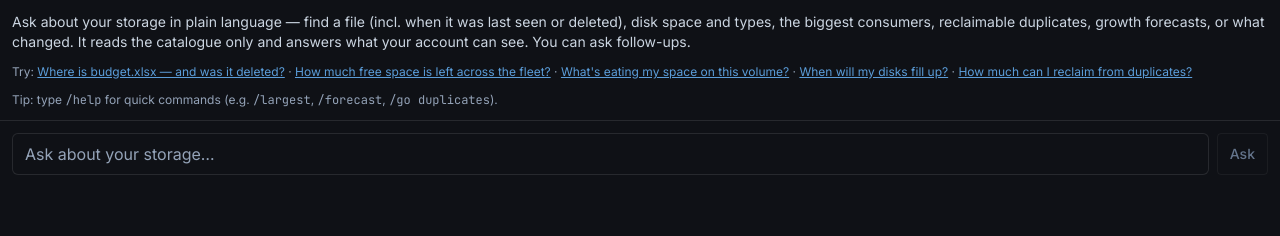
Test: /scope with multiple matches selects the first
This screenshot has width=1280, height=236.
In the field named "your question": x=610, y=154 [12, 133, 1209, 175], type "/scope data"
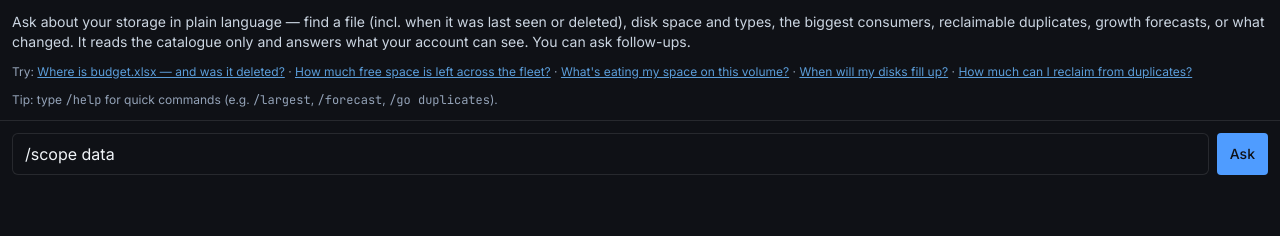
Click the button "Ask": x=1242, y=154 [1217, 133, 1268, 175]
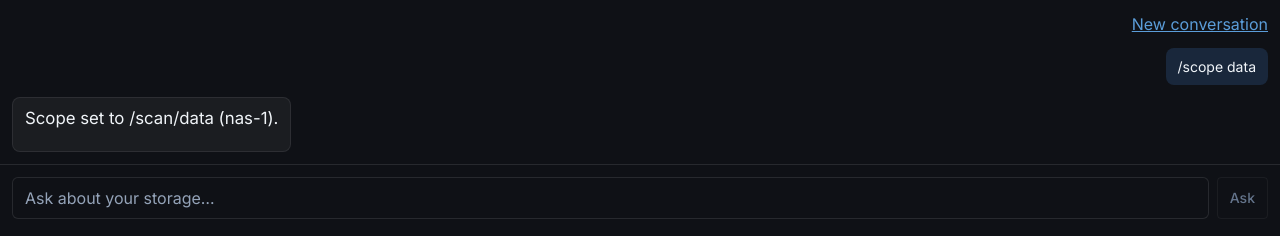
Now the text "Scope set to /scan/data (nas-1)." is shown, box [25, 106, 278, 131]
